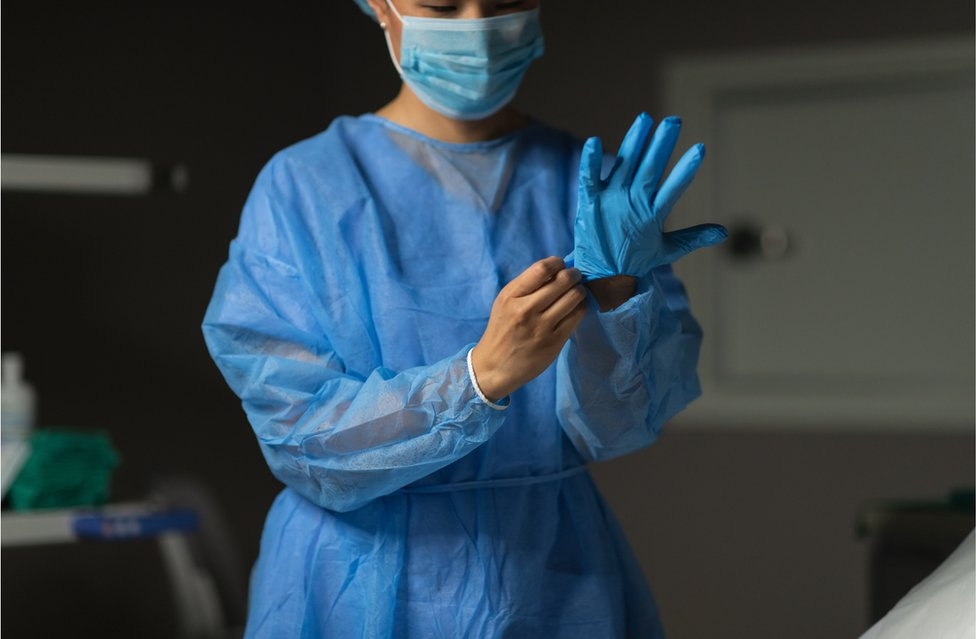glove: (575, 111, 725, 275)
hand: (471, 254, 587, 391)
